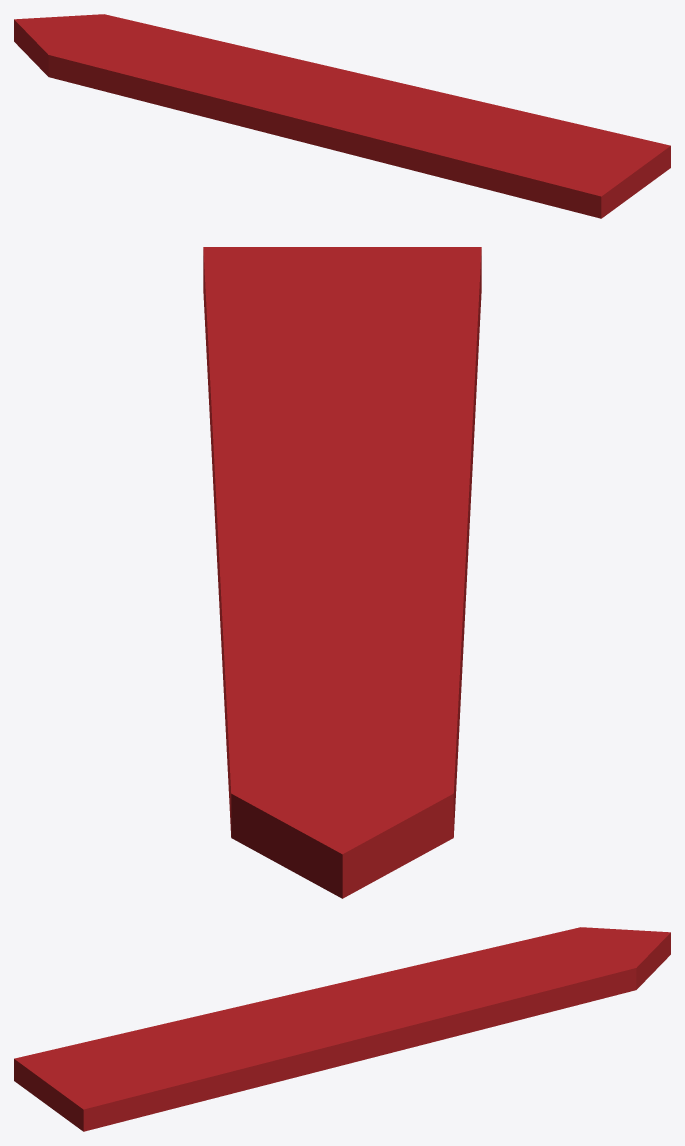
The model's file is lp_clkhand_h35.obj.
3 renders of one model, top to bottom at view 1: azimuth 30°, elevation 25°; view 2: azimuth 150°, elevation 25°; view 3: azimuth 270°, elevation 25°, orthographic. The views are drawn at different scales.
Parts seen in each view (by area): view 1: lp_clkhand_h35; view 2: lp_clkhand_h35; view 3: lp_clkhand_h35.
Boxes of the visible parts, x1=… form: lp_clkhand_h35: x1=14, y1=14, x2=670, y2=218; lp_clkhand_h35: x1=203, y1=247, x2=481, y2=898; lp_clkhand_h35: x1=14, y1=927, x2=670, y2=1131.
Size of the model in its own units: 0.5275 by 0.03 by 0.8029.
1 material, 1 textured.
